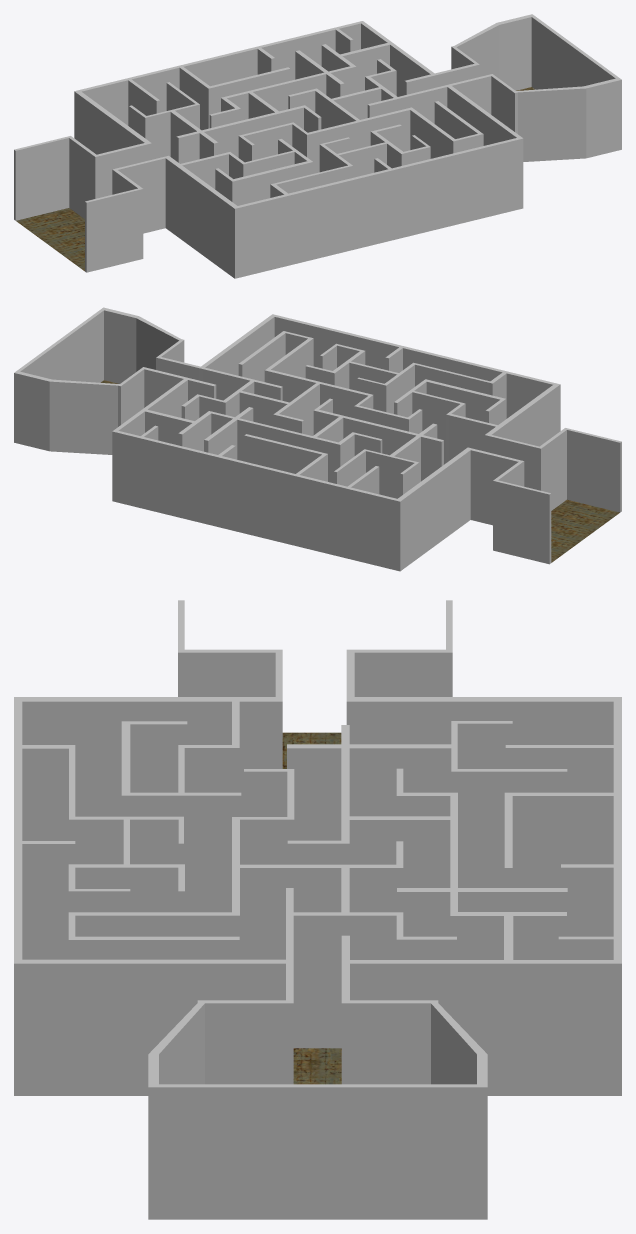
The model's file is clown_maze.FBX.
3 renders of one model, top to bottom at view 1: azimuth 30°, elevation 25°; view 2: azimuth 150°, elevation 25°; view 3: azimuth 270°, elevation 25°, orthographic. The views are drawn at different scales.
Parts seen in each view (by area): view 1: maze_walls, maze_floor; view 2: maze_walls, maze_floor; view 3: maze_walls, maze_floor.
Boxes of the visible parts, box(x1,y1,x2,y2) form: maze_walls: box(14, 14, 621, 278); maze_floor: box(16, 87, 534, 271); maze_walls: box(14, 307, 621, 571); maze_floor: box(101, 380, 619, 562); maze_walls: box(14, 600, 621, 1219); maze_floor: box(282, 732, 341, 1084).
Bounding box in the file's own units: 2206 × 280 × 1163.
